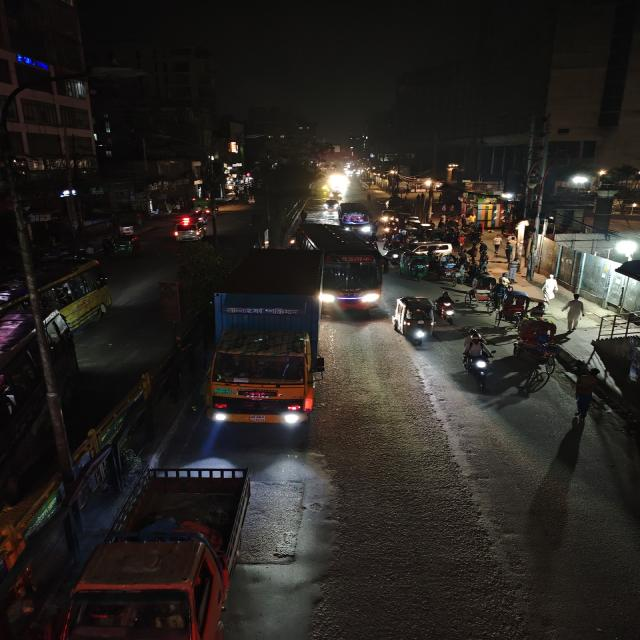bus: (0, 256, 113, 362), (300, 222, 387, 318), (337, 201, 373, 232)
car: (171, 209, 214, 244), (416, 241, 455, 256)
cng: (389, 295, 436, 349), (400, 251, 432, 281), (107, 232, 141, 258)
motorcycle: (459, 334, 496, 388), (435, 291, 458, 324)
pedestrian: (566, 369, 605, 423), (560, 294, 587, 332), (540, 273, 560, 301), (500, 270, 516, 287)
pickup_van: (71, 452, 252, 638)
rickshaw: (511, 315, 557, 360), (467, 272, 499, 312), (437, 254, 462, 280)
truck: (206, 247, 326, 423)
